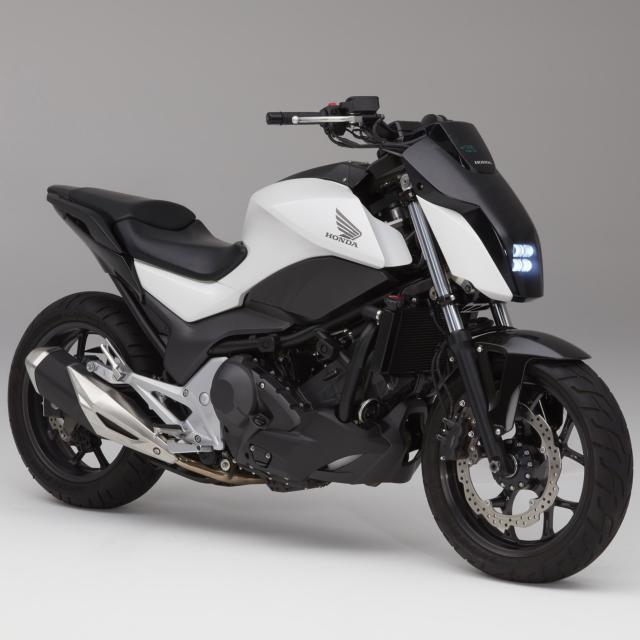motorcycle: (6, 94, 634, 584)
